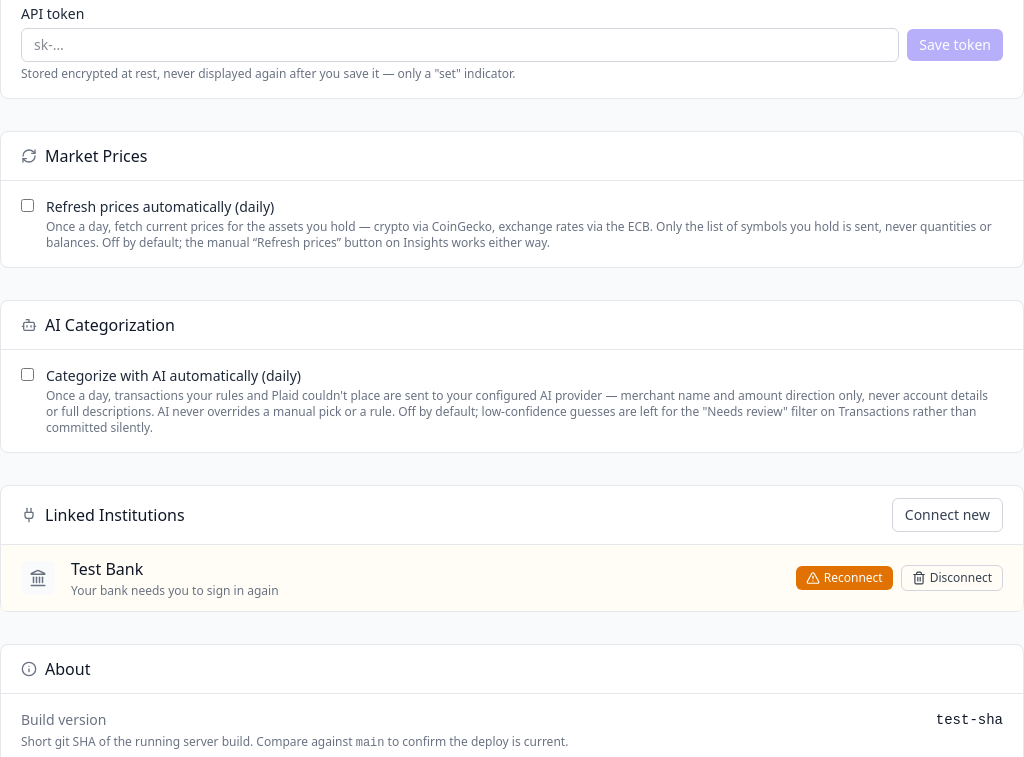
Test: SettingsPage smoke › keeps a failed Reconnect message on the row
(page scrolled)
Click the button with aria-label "Reconnect Test Bank" at (844, 578), box [796,566,893,590]
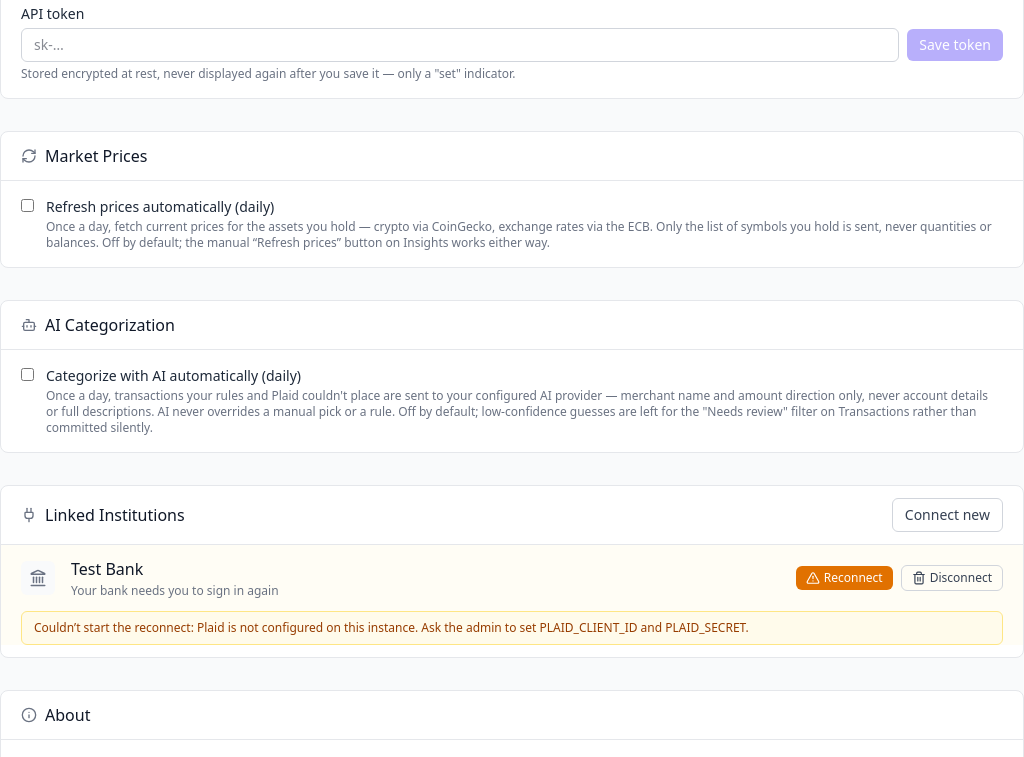
Expected: the message shows "Couldn’t start the reconnect: Plaid is not configured on this instance.", [21,611,1003,645]
